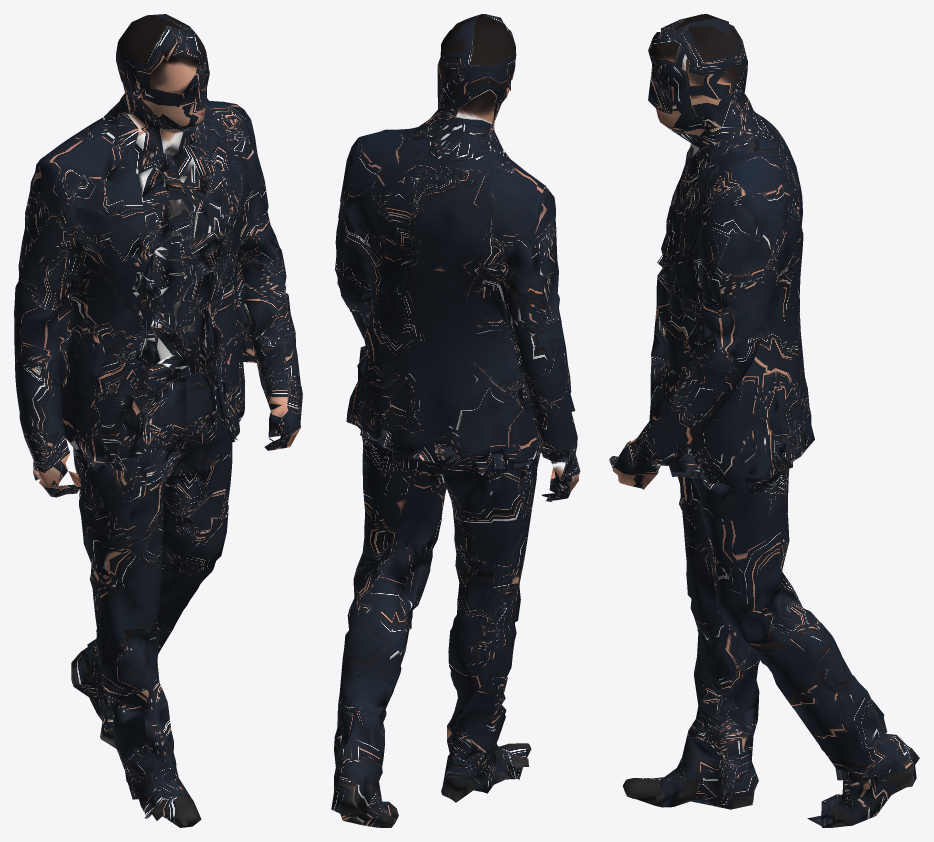
The model's file is executive_suit.glb.
The picture shows the model from 3 angles, left to right: view 1: azimuth 30°, elevation 25°; view 2: azimuth 150°, elevation 25°; view 3: azimuth 270°, elevation 25°; orthographic projection. The views are drawn at different scales.
Parts seen in each view (by area): view 1: body; view 2: body; view 3: body.
Part boxes in pixels (left/top/right/bottom): body: left=14, top=14, right=302, bottom=827; body: left=331, top=14, right=580, bottom=827; body: left=609, top=14, right=919, bottom=827.
Bounding box in the file's own units: 0.594 × 1.8 × 0.6454.
Materials: 1 (1 with a texture image).
